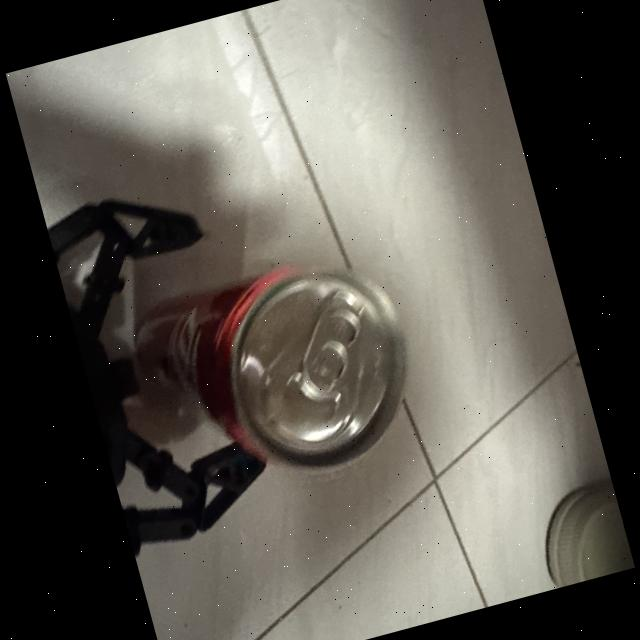Cola: (120, 222, 444, 524)
